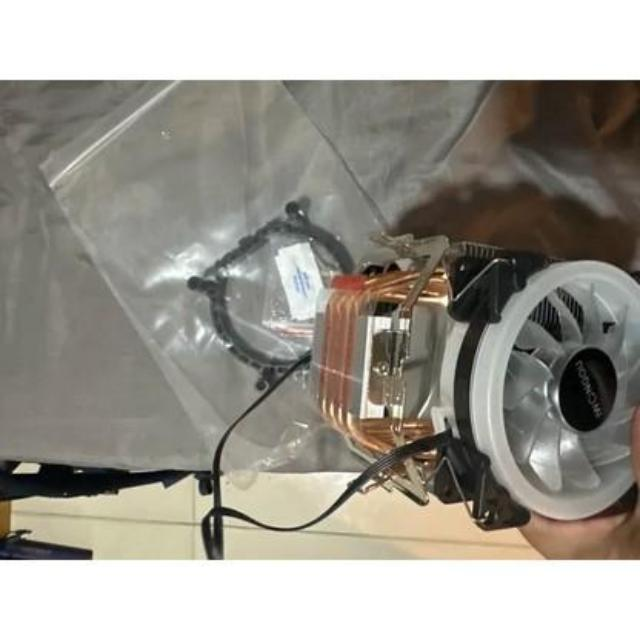CPU_Fan: (326, 234, 640, 531)
